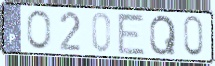0: (182, 14, 205, 59), (90, 11, 112, 54)
2: (58, 10, 82, 52)
E: (116, 11, 147, 57)
O: (25, 9, 53, 51)
Q: (148, 13, 177, 57)
